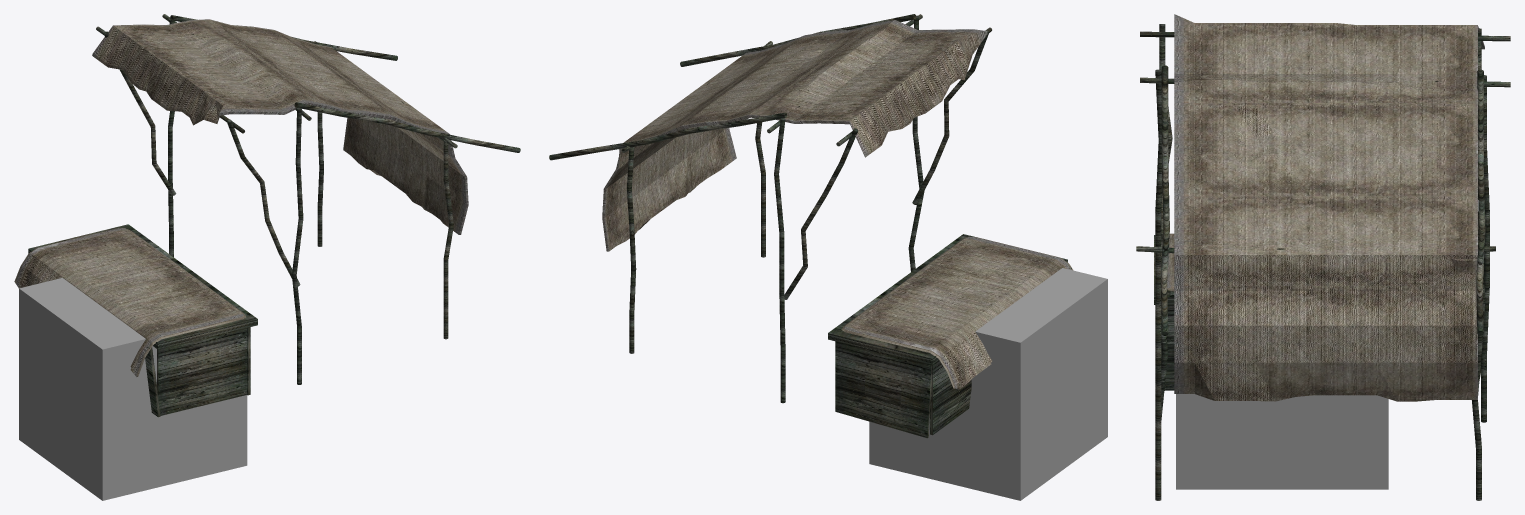
The model's file is market2.obj.
3 views of the same model, side by side, from view 1: azimuth 30°, elevation 25°; view 2: azimuth 150°, elevation 25°; view 3: azimuth 270°, elevation 25° (orthographic). The views are drawn at different scales.
Visible parts, largest first — view 1: Cube, Box08, Box07, Box03, Box05, Cylinder01, Cylinder11, Cylinder07, Cylinder02, Cylinder08, Cylinder03, Cylinder04 (+2 smaller); view 2: Box08, Cube, Box07, Box04, Box05, Box02, Cylinder04, Cylinder10, Cylinder08, Cylinder03, Cylinder02, Cylinder11 (+2 smaller); view 3: Box08, Cube, Cylinder11, Cylinder10, Cylinder07, Cylinder04, Cylinder01, Cylinder08, Box01, Cylinder02.
Part boxes in pixels (box(x1,y1,x2,y2)): Cube: box(19, 278, 247, 500); Box08: box(92, 19, 468, 234); Box07: box(14, 228, 245, 376); Box03: box(157, 328, 246, 415); Box05: box(28, 224, 257, 349); Cylinder01: box(292, 107, 303, 384); Cylinder11: box(294, 102, 520, 152); Cylinder07: box(443, 140, 453, 339); Cylinder02: box(227, 119, 300, 286); Cylinder08: box(317, 112, 323, 246); Cylinder03: box(103, 31, 176, 195); Cylinder04: box(168, 18, 174, 257); Box08: box(602, 20, 987, 251); Cube: box(869, 268, 1107, 500); Box07: box(841, 236, 1073, 389); Box04: box(835, 341, 931, 438); Box05: box(828, 234, 1067, 364); Box02: box(930, 267, 1071, 435); Cylinder04: box(774, 118, 785, 403); Cylinder10: box(549, 112, 787, 160); Cylinder08: box(626, 147, 636, 353); Cylinder03: box(784, 128, 858, 299); Cylinder02: box(912, 30, 989, 204); Cylinder11: box(680, 14, 916, 66); Box08: box(1174, 14, 1484, 401); Cube: box(1176, 394, 1388, 489); Cylinder11: box(1160, 65, 1169, 335); Cylinder10: box(1476, 69, 1485, 335); Cylinder07: box(1155, 247, 1161, 500); Cylinder04: box(1481, 75, 1489, 422); Cylinder01: box(1155, 69, 1167, 419); Cylinder08: box(1472, 270, 1485, 500); Box01: box(1161, 305, 1174, 390); Cylinder02: box(1159, 24, 1172, 264).
Bounding box in the file's own units: 5.73 × 4.75 × 3.52.
Materials: 3 (2 with a texture image).
